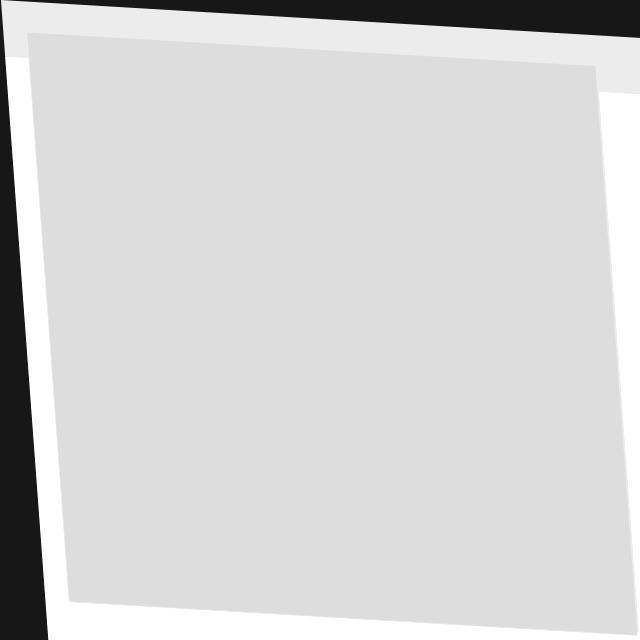qr_code: (26, 32, 627, 628)
